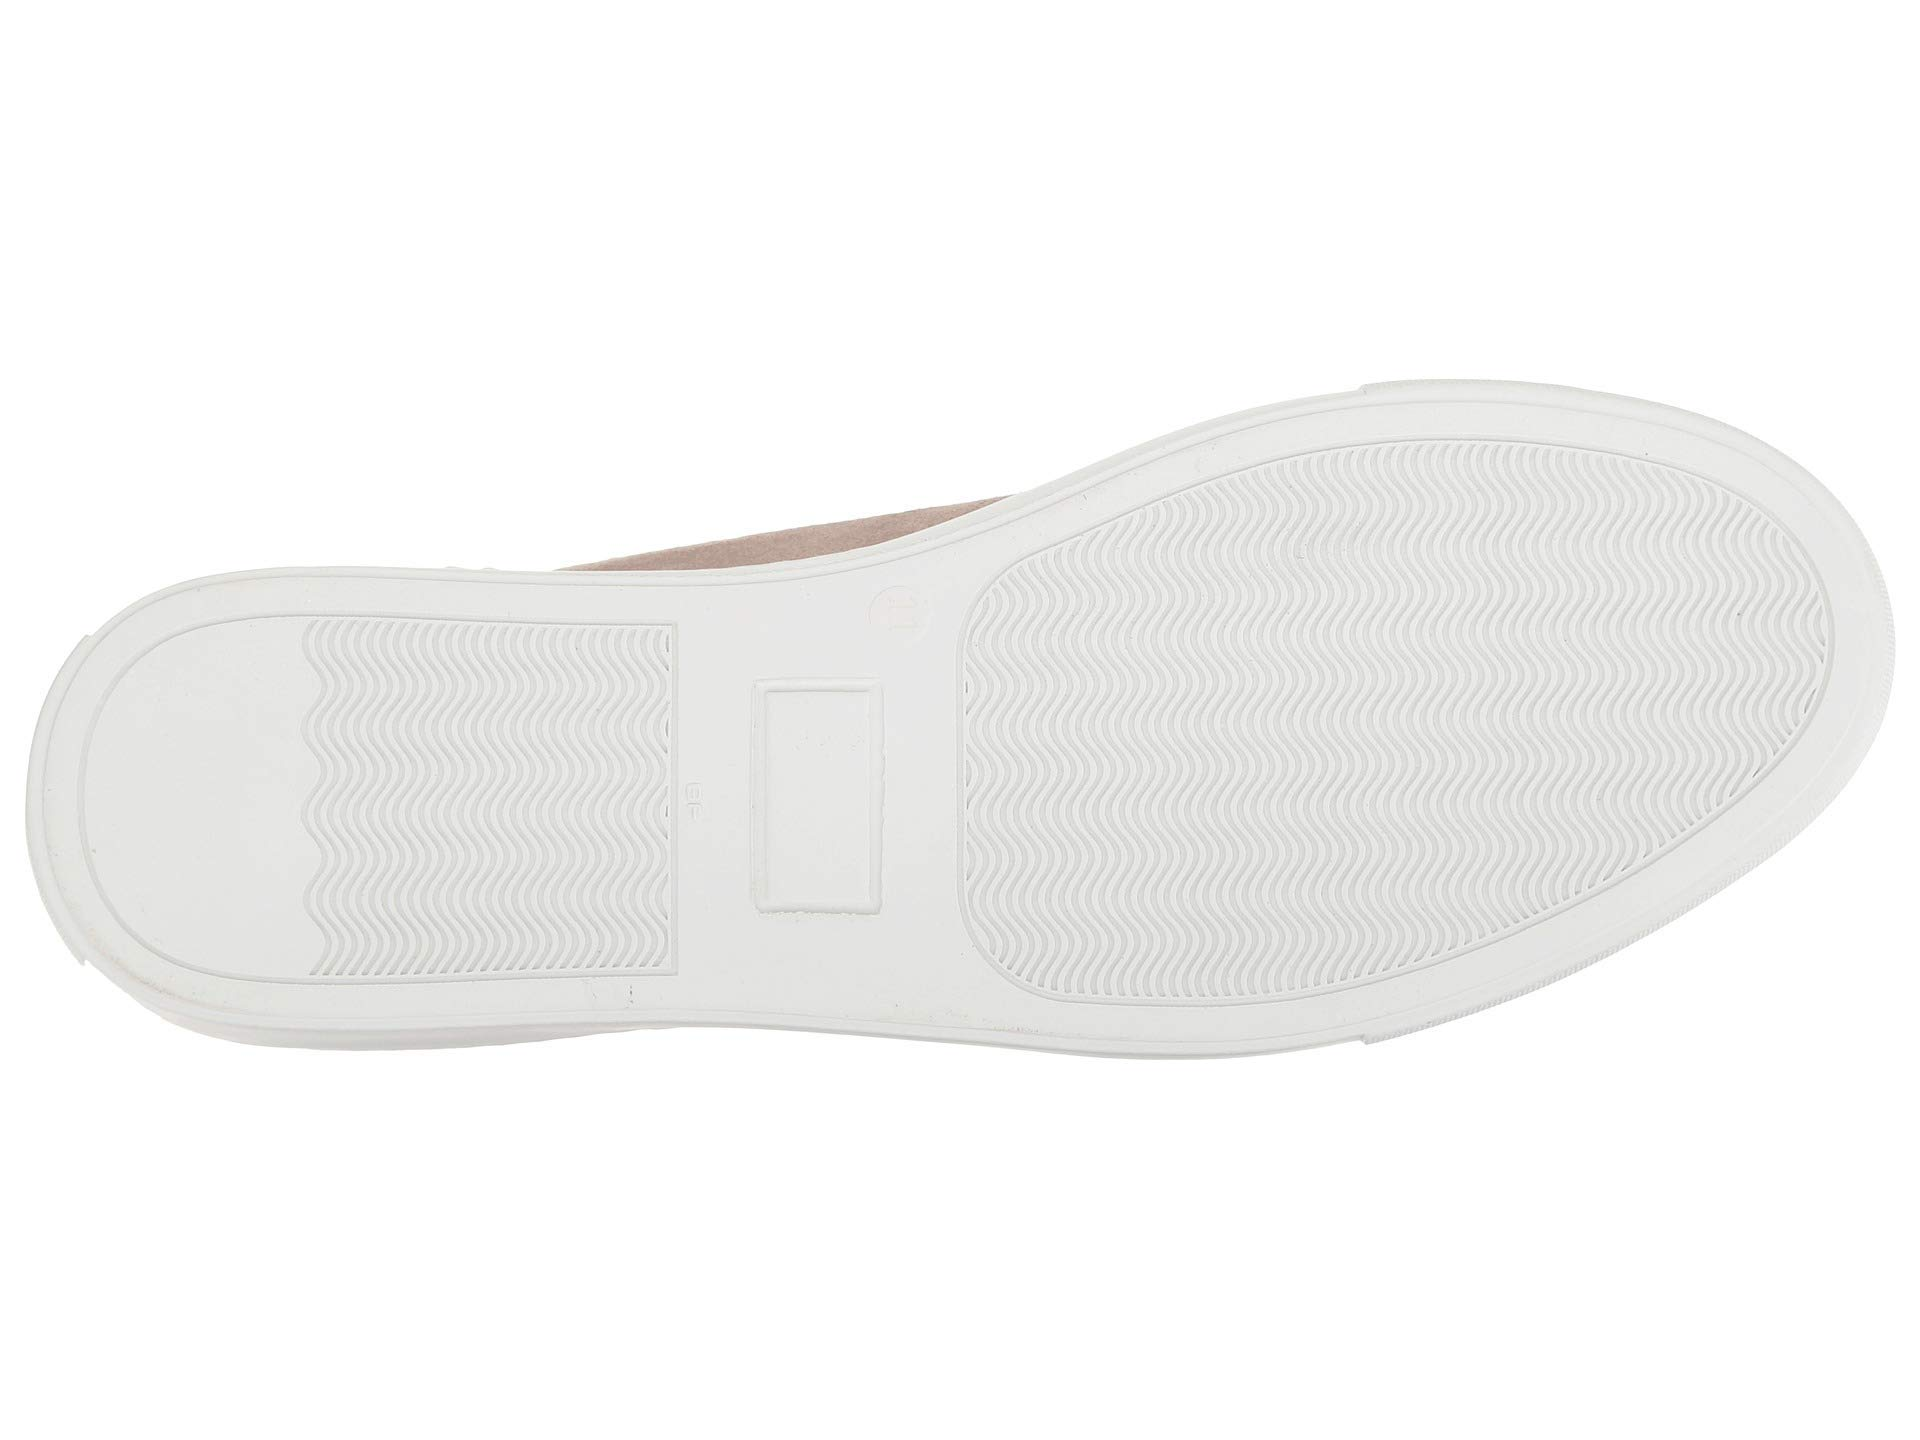chevron: (1042, 594, 1367, 933), (1373, 508, 1707, 824), (325, 640, 638, 921), (1223, 475, 1359, 601)
circle: (862, 573, 952, 667)
quad: (726, 650, 912, 944)
text: (862, 573, 952, 667)
